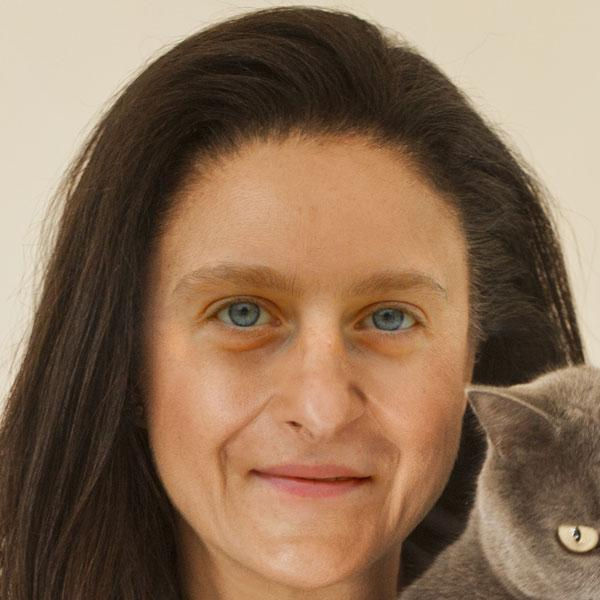Eyes: (189, 285, 292, 346), (344, 295, 438, 345)
